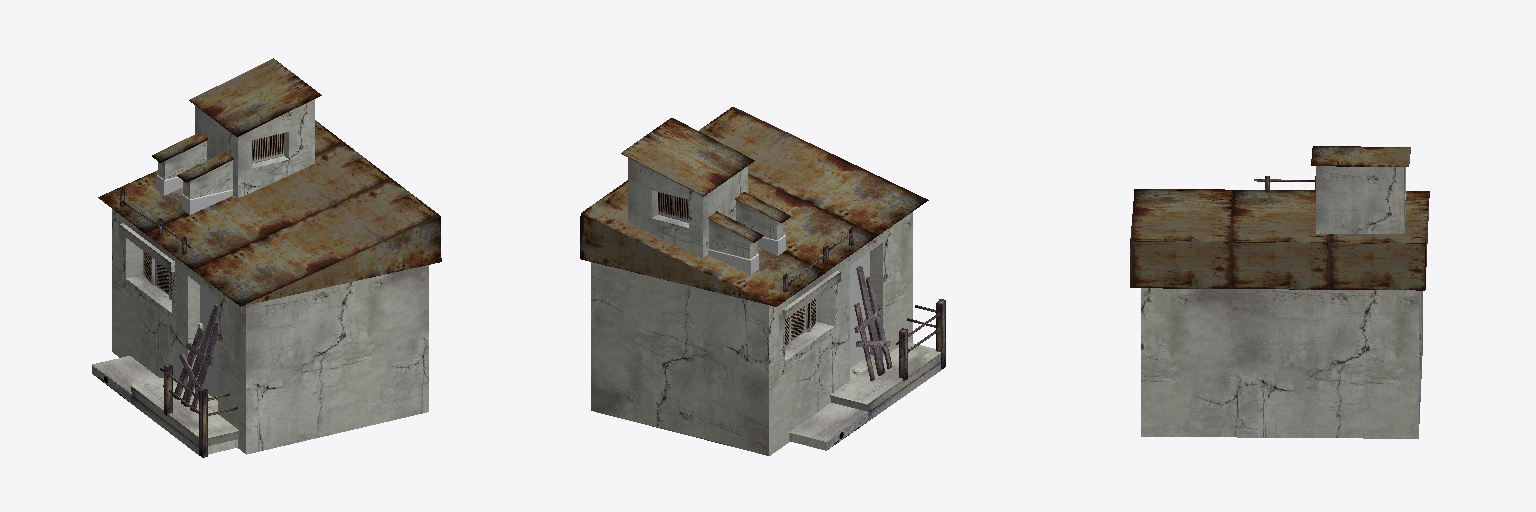
3 renders of one model, left to right at view 1: azimuth 30°, elevation 25°; view 2: azimuth 150°, elevation 25°; view 3: azimuth 270°, elevation 25°, orthographic.
Size of the model in its own units: 128 by 138 by 143.
Materials: 7 (6 with a texture image).